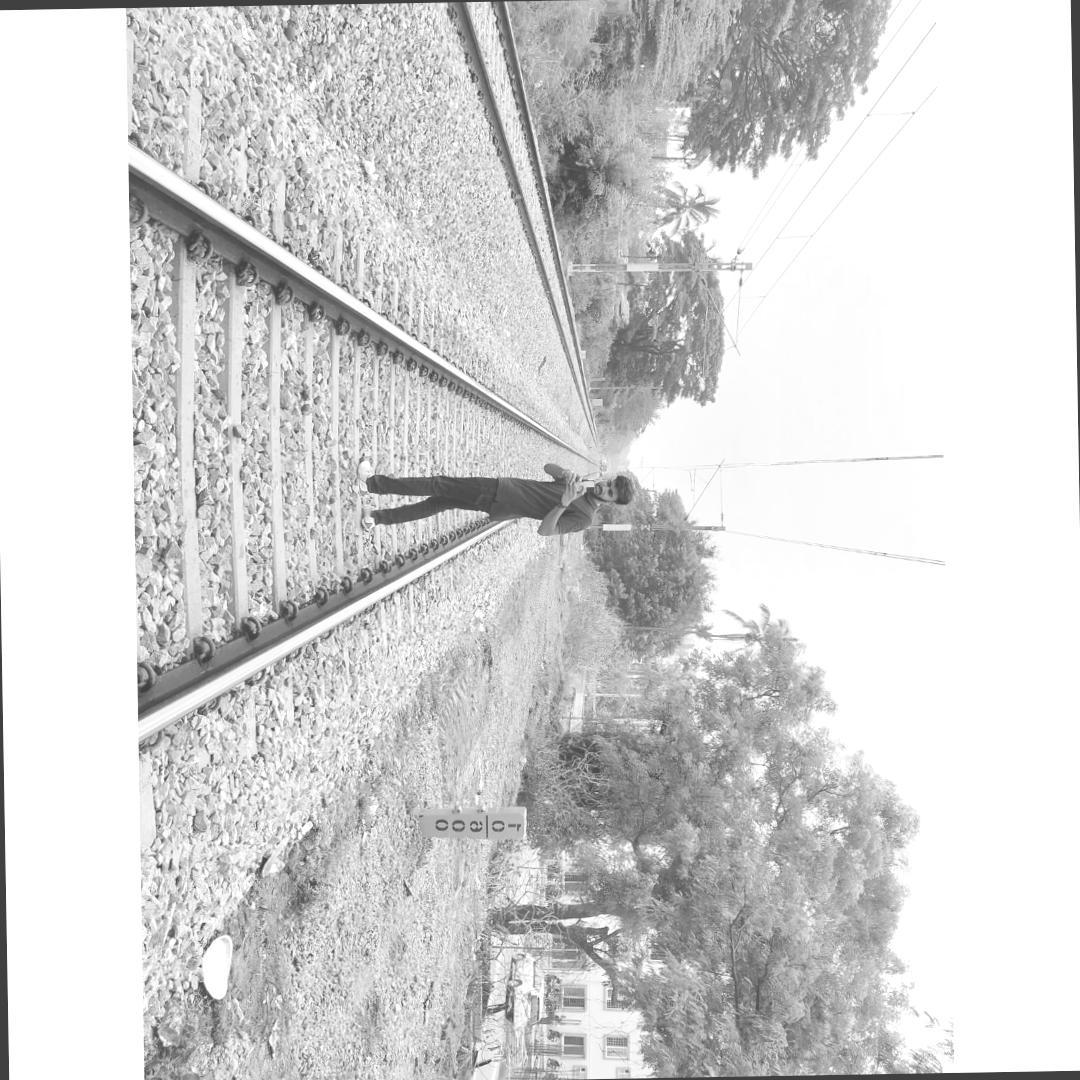standing: (359, 457, 636, 539)
track: (128, 125, 611, 761)
